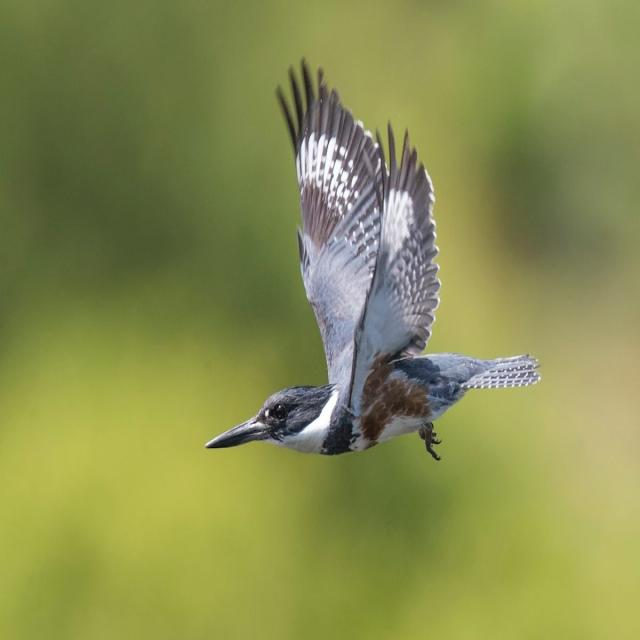kingfisher: (196, 43, 551, 489)
